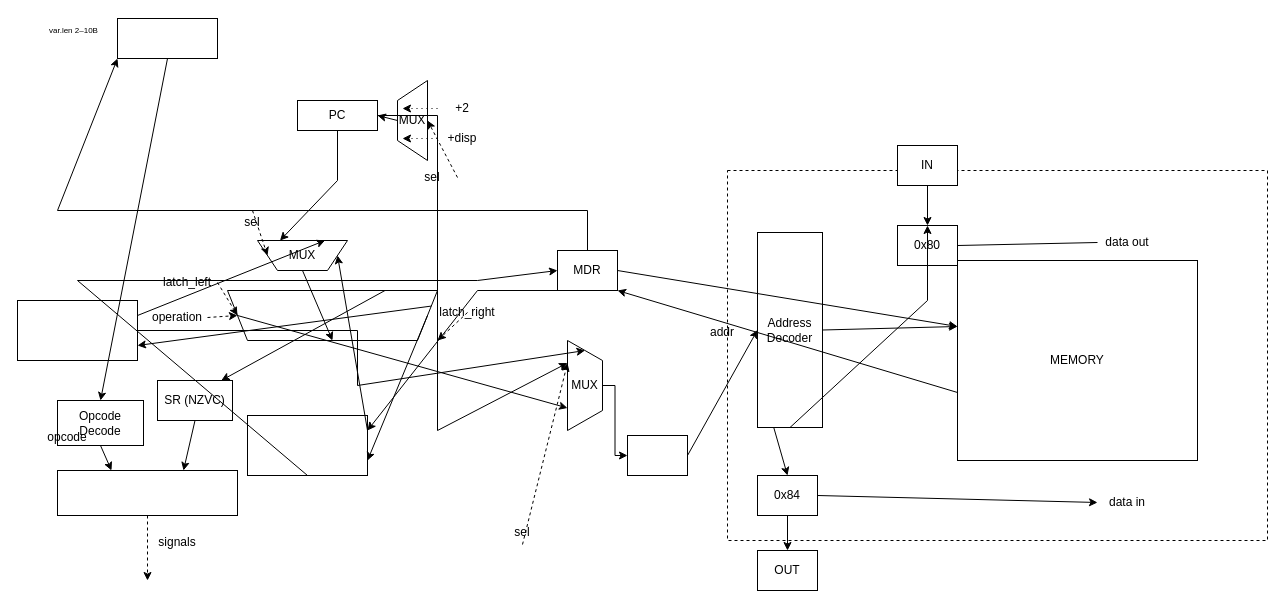
Some shapes in this 1285 by 608 pixel diagram are drawn without their labels. Here are the shapes that lost their labels. From the top down, the centre of each, then its label:
[167,38]: IR (Instruction Register)
[77,330]: A0-A7 Addr Registers (A7 = SP)
[332,315]: ALU
[307,445]: D0-D7 Data Registers
[657,455]: MAR
[147,493]: Control Unit
